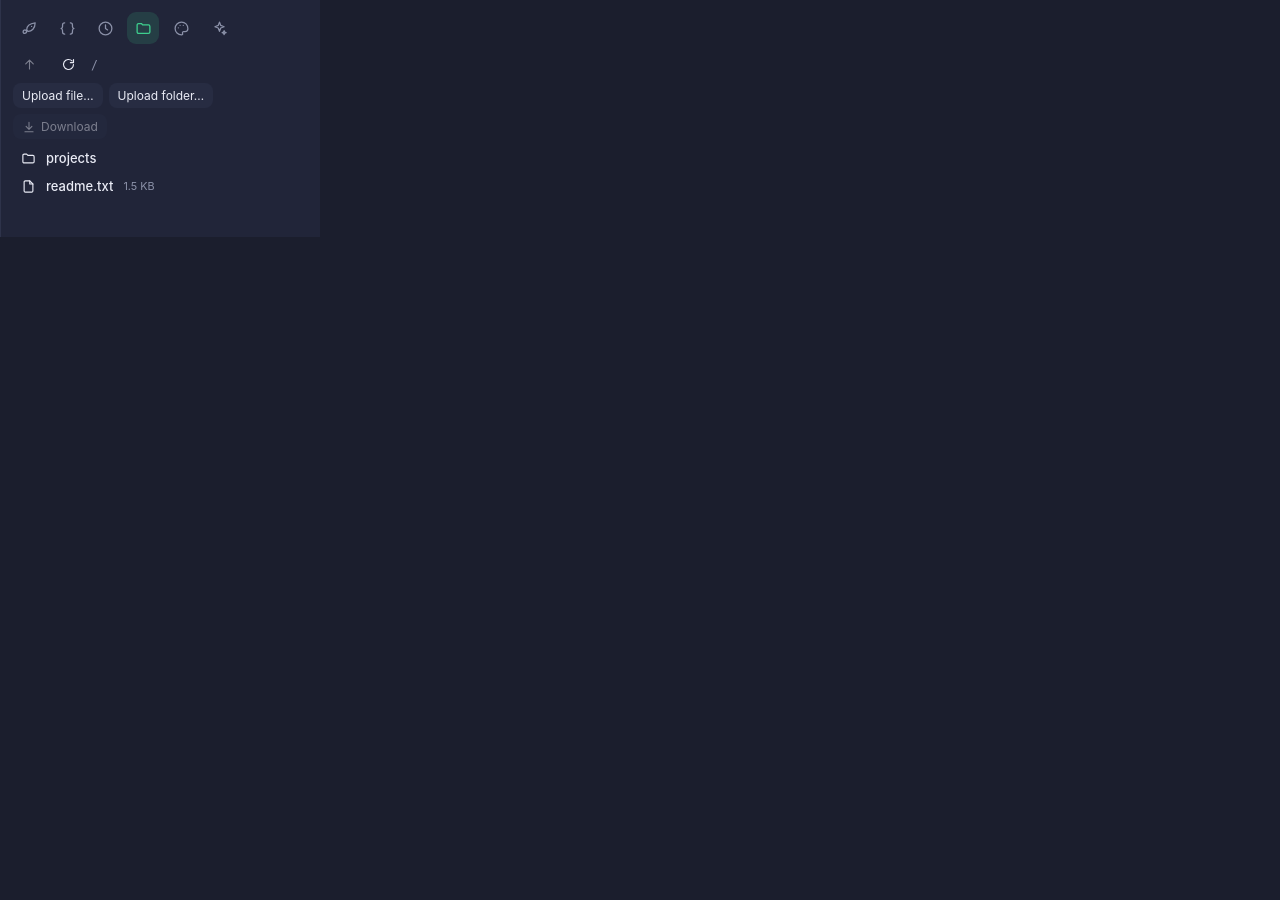
Test: terminal sidebar: Files › Upload file… queues the picked file into the open folder and the list shows it when done
Step 1. Click the button "Upload file…" → coordinates (58, 96), box top-left (13, 83), bottom-right (103, 108)
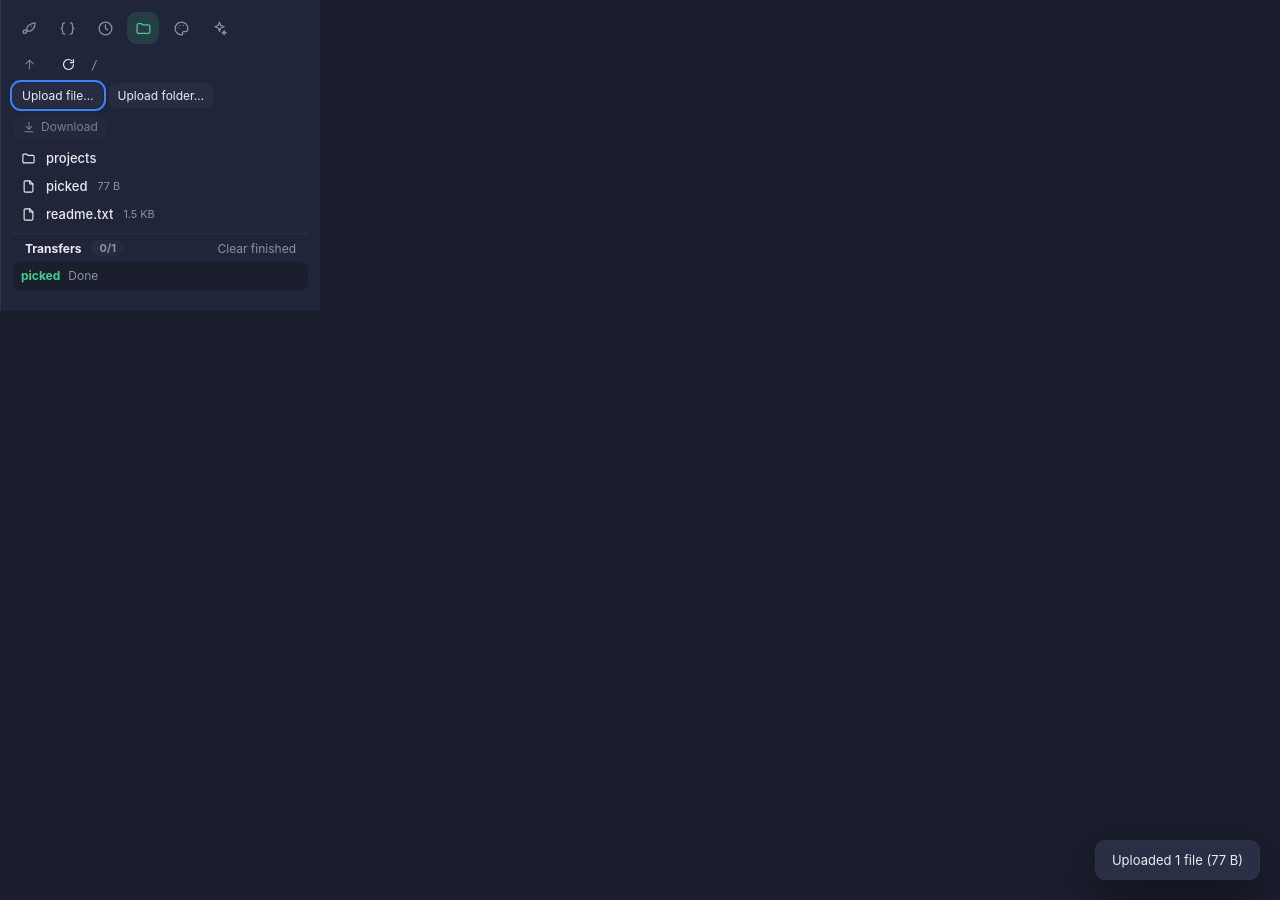
Expected: the text "picked" below "projects" is shown, top-left (46, 178), bottom-right (88, 194)
Expected: the list item "picked" shows "Done", top-left (68, 268), bottom-right (98, 283)
